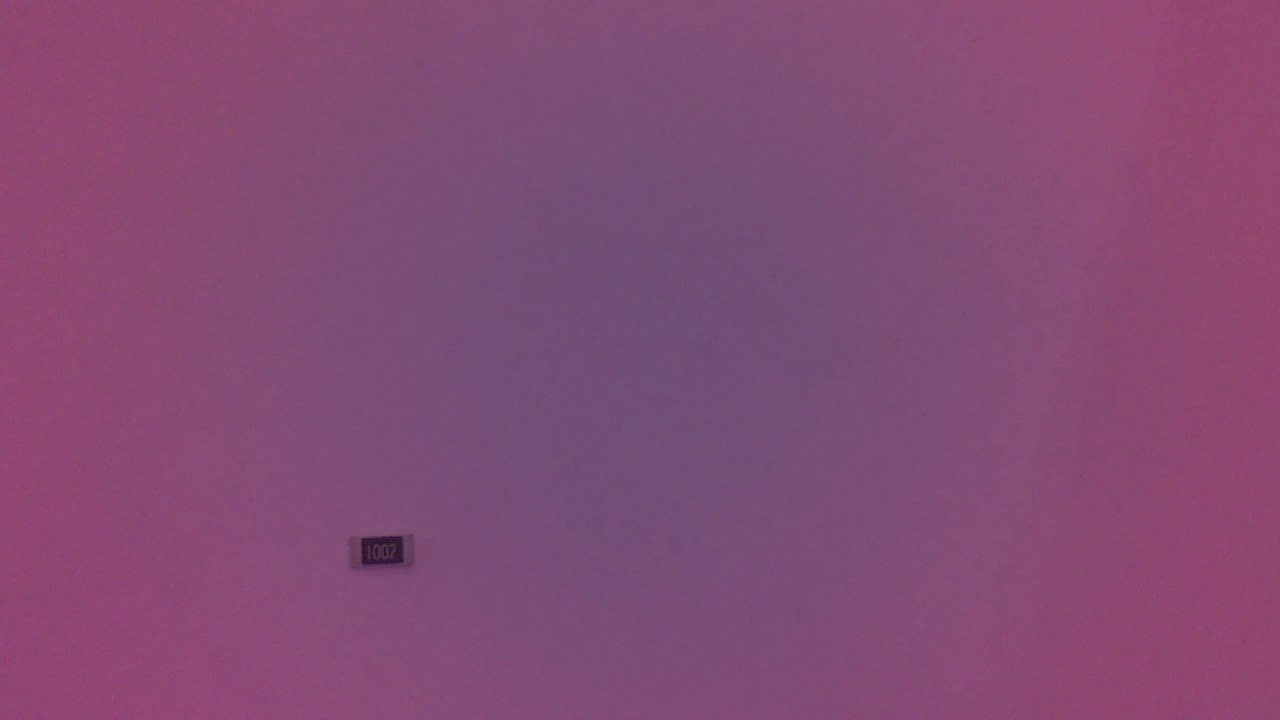Resistor: (345, 528, 426, 584)
